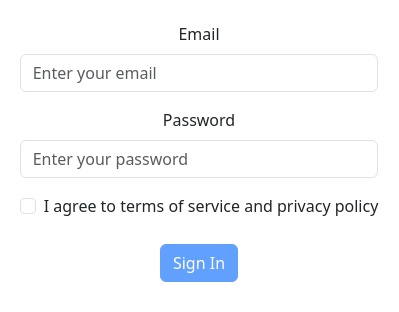
Test case: Login Page › Error Messages › Password input throws error for 123
Type "123" into the password field with test id "password-input" at (200, 159), box [20,140,379,178]
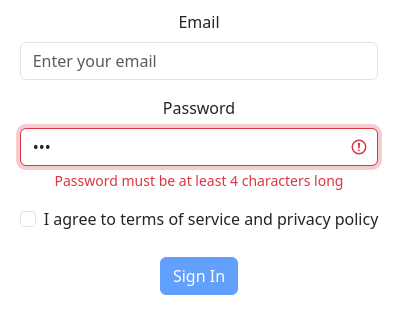
Now the text "Password must be at least 4 characters long" is shown, box [54,170,343,190]
